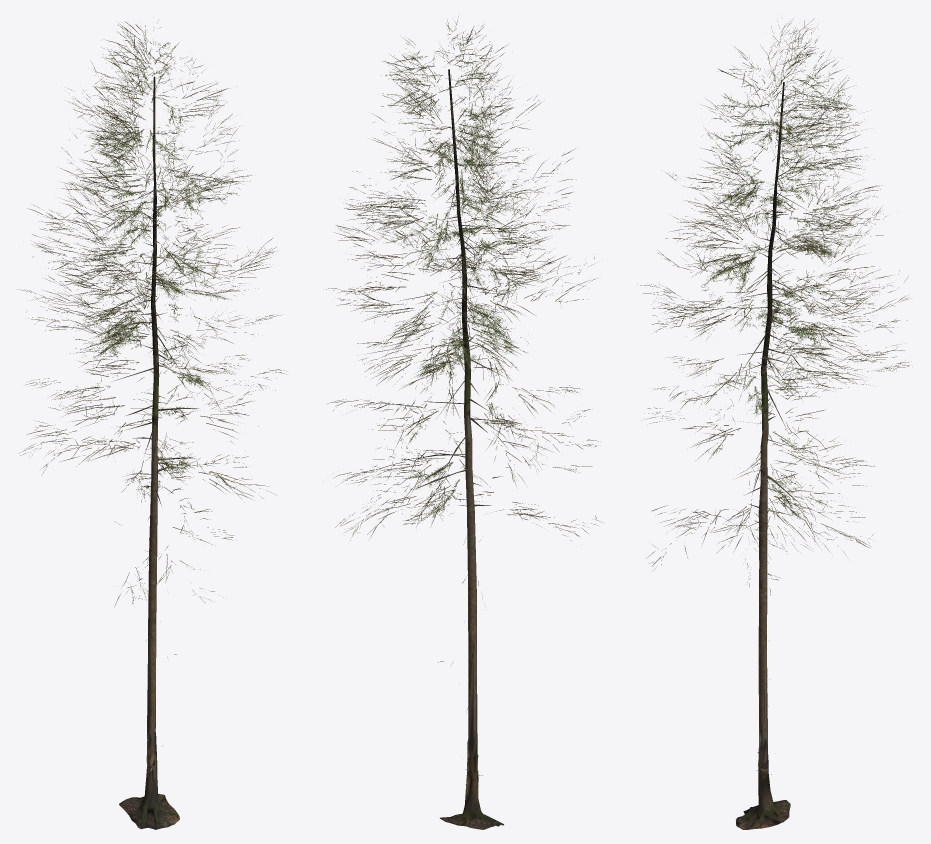
File: fir-near-mobile.glb
3 views of the same model, side by side, from view 1: azimuth 30°, elevation 25°; view 2: azimuth 150°, elevation 25°; view 3: azimuth 270°, elevation 25° (orthographic). The views are drawn at different scales.
Visible parts, largest first — view 1: Scots fir; view 2: Scots fir; view 3: Scots fir.
Boxes of the visible parts, x1,y1,x2,y2 form: Scots fir: [19, 21, 286, 829]; Scots fir: [326, 17, 601, 829]; Scots fir: [637, 18, 912, 829].
Bounding box in the file's own units: 6.4 × 18.82 × 5.99.
4 materials, 4 textured.
